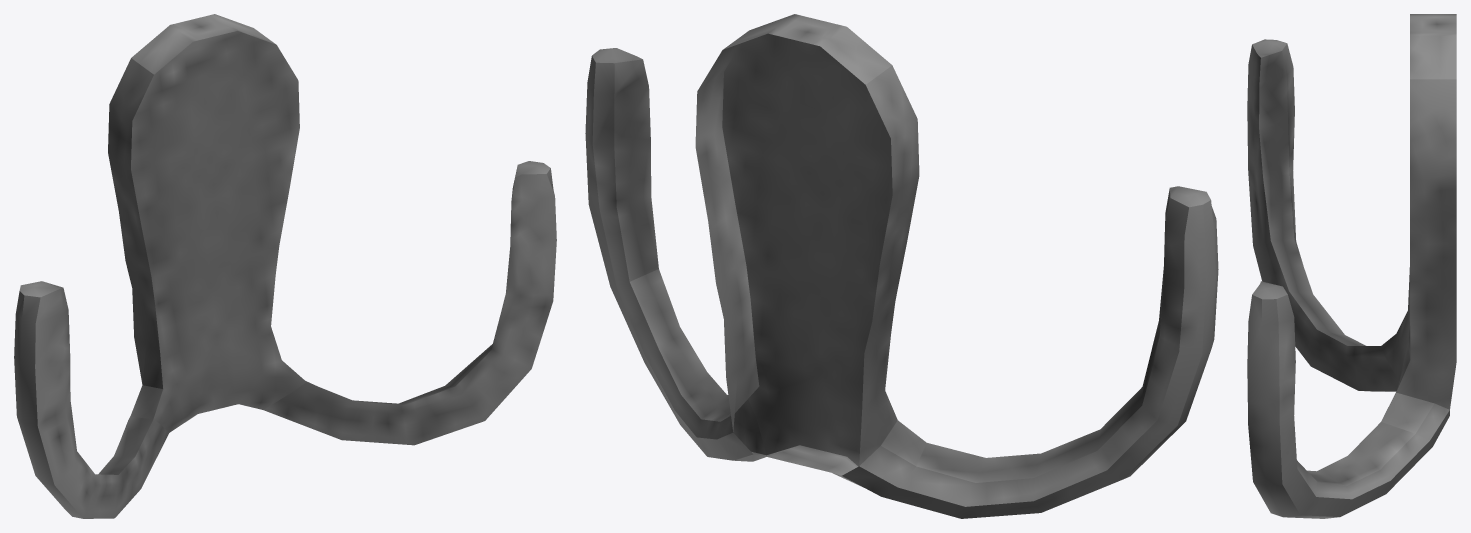
Rendered from SM_Hook.fbx.
The picture shows the model from 3 angles, left to right: view 1: azimuth 30°, elevation 25°; view 2: azimuth 150°, elevation 25°; view 3: azimuth 270°, elevation 25°; orthographic projection. The views are drawn at different scales.
Parts seen in each view (by area): view 1: SM_Hook; view 2: SM_Hook; view 3: SM_Hook.
Boxes of the visible parts, box(x1,y1,x2,y2) form: SM_Hook: box(14, 14, 556, 518); SM_Hook: box(585, 14, 1218, 518); SM_Hook: box(1247, 14, 1456, 518).
Size of the model in its own units: 0.1691 by 0.0567 by 0.1251.
